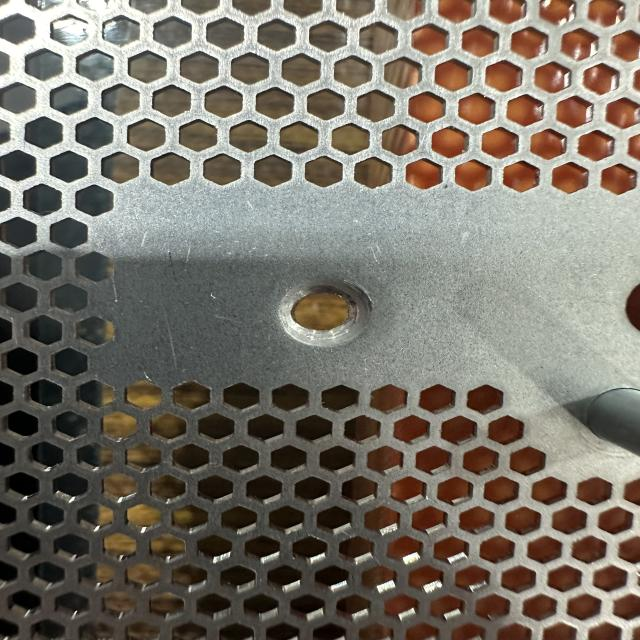Missing screw: (264, 272, 384, 355)
